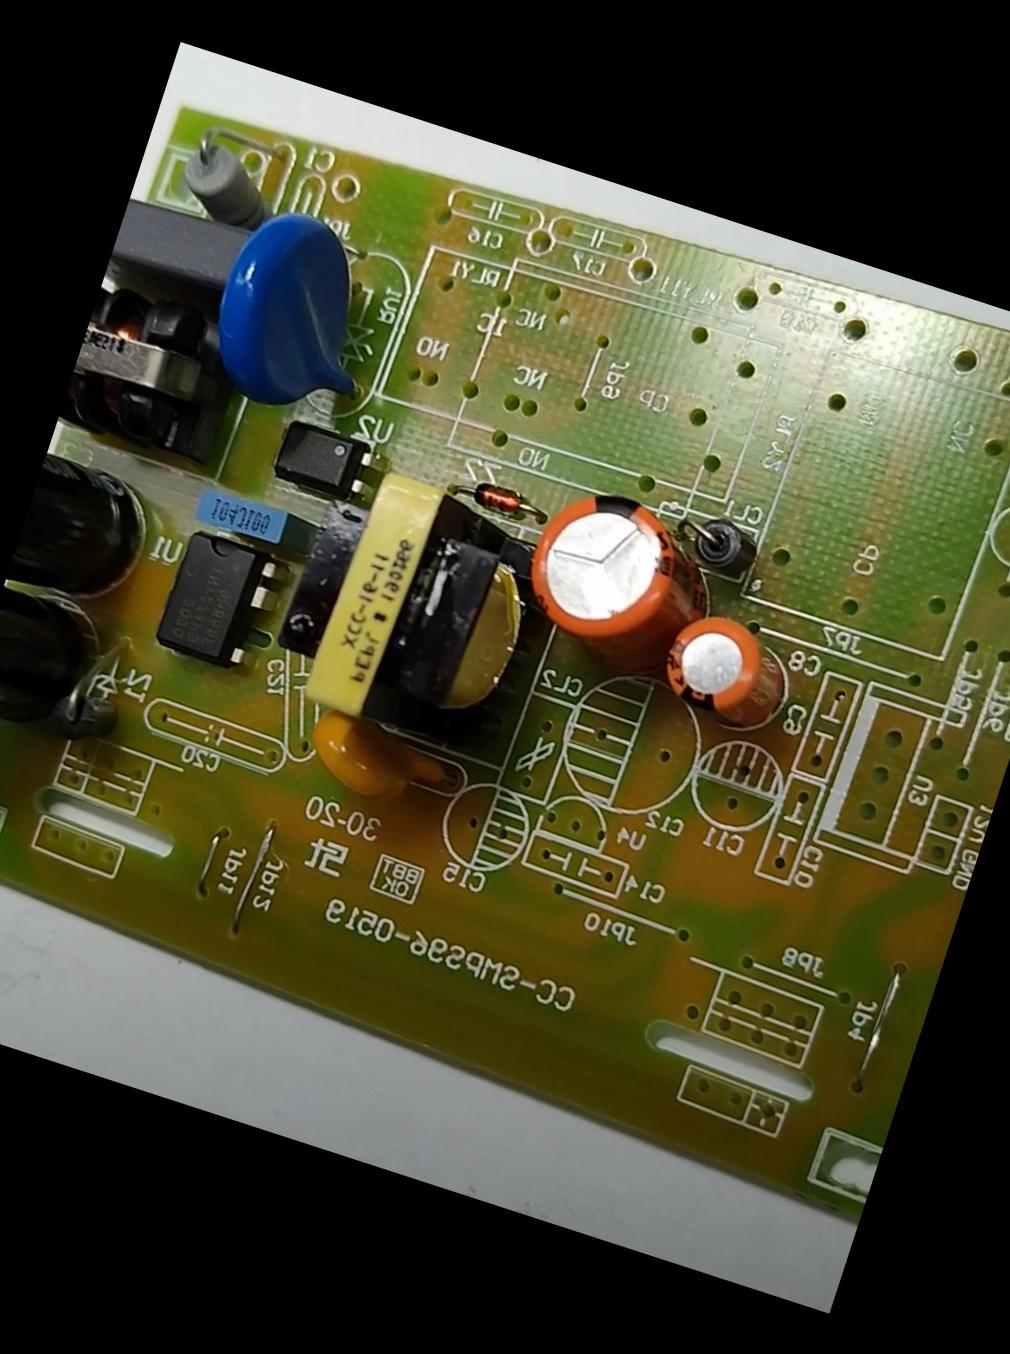Cap1: (508, 469, 711, 662)
Cap2: (652, 597, 780, 723)
Cap3: (5, 444, 164, 618)
Cap4: (0, 583, 115, 756)
MOSFET: (149, 521, 289, 673)
Mov: (192, 193, 405, 430)
Resistor: (169, 128, 281, 231)
Transformer: (260, 445, 570, 776), (57, 278, 265, 473)
